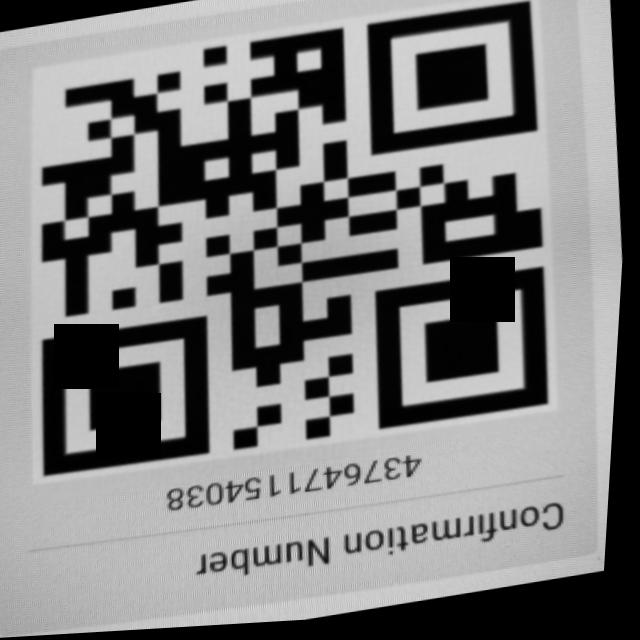QR_CODE: (0, 0, 592, 510)
